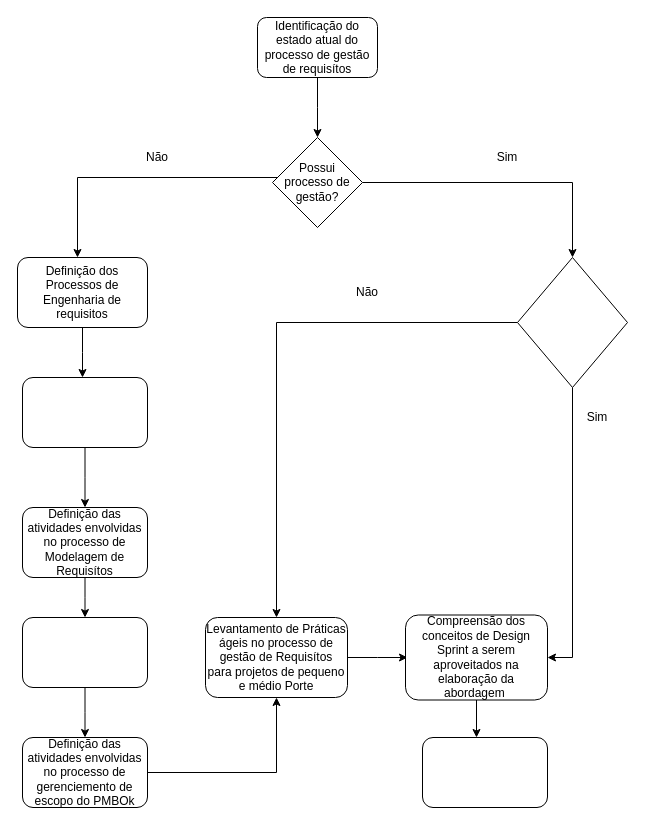
Image size: 645x826. Some labels were removed from this diagram. The centre of each missing label's shape, as x and y in pixels:
"Considerações Finais" goes at point 485,772.
"Definição das atividades envolvidas no processo de Análise de Requisítos" goes at point 85,652.
"Definição das atividades envolvidas no processo de Elicitação de Requisítos" goes at point 85,412.
"Existe aplicação de práticas Ágeis no processo" goes at point 572,322.
